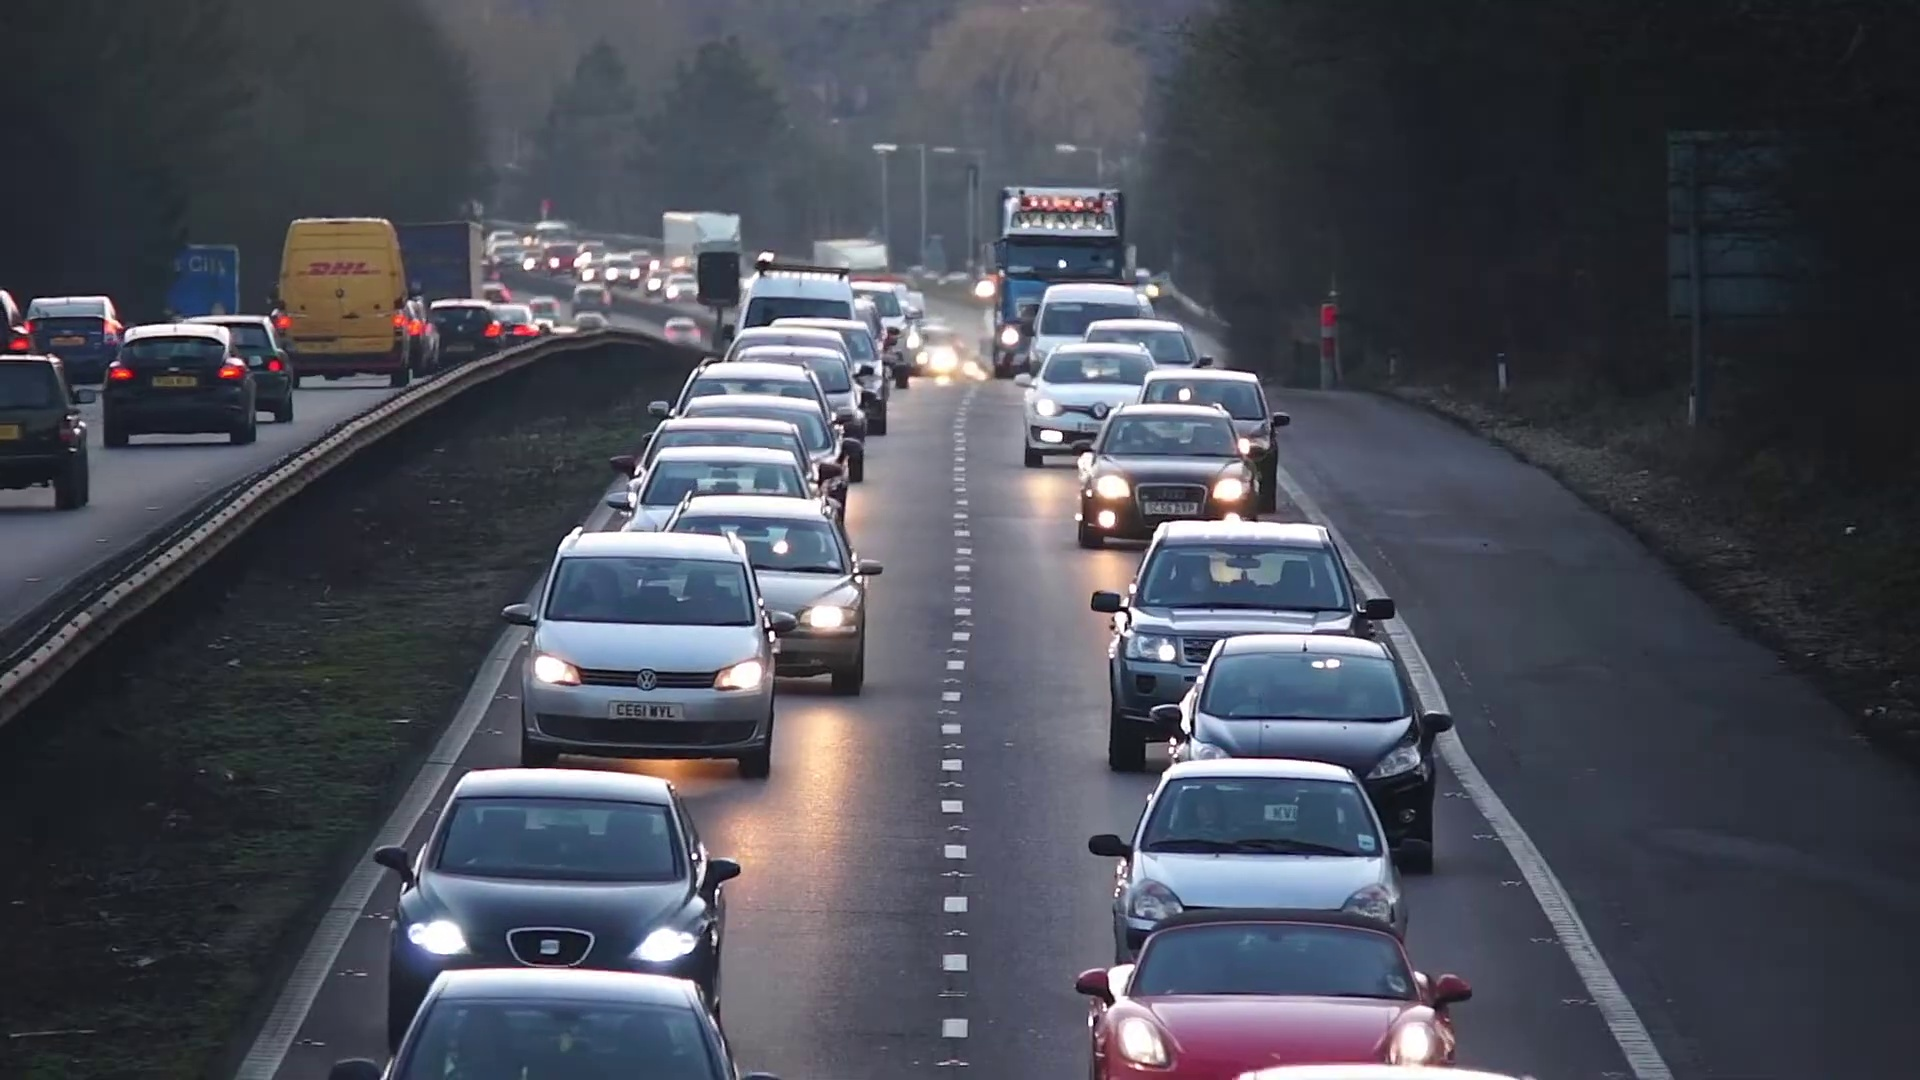license_plate: (603, 696, 682, 722)
